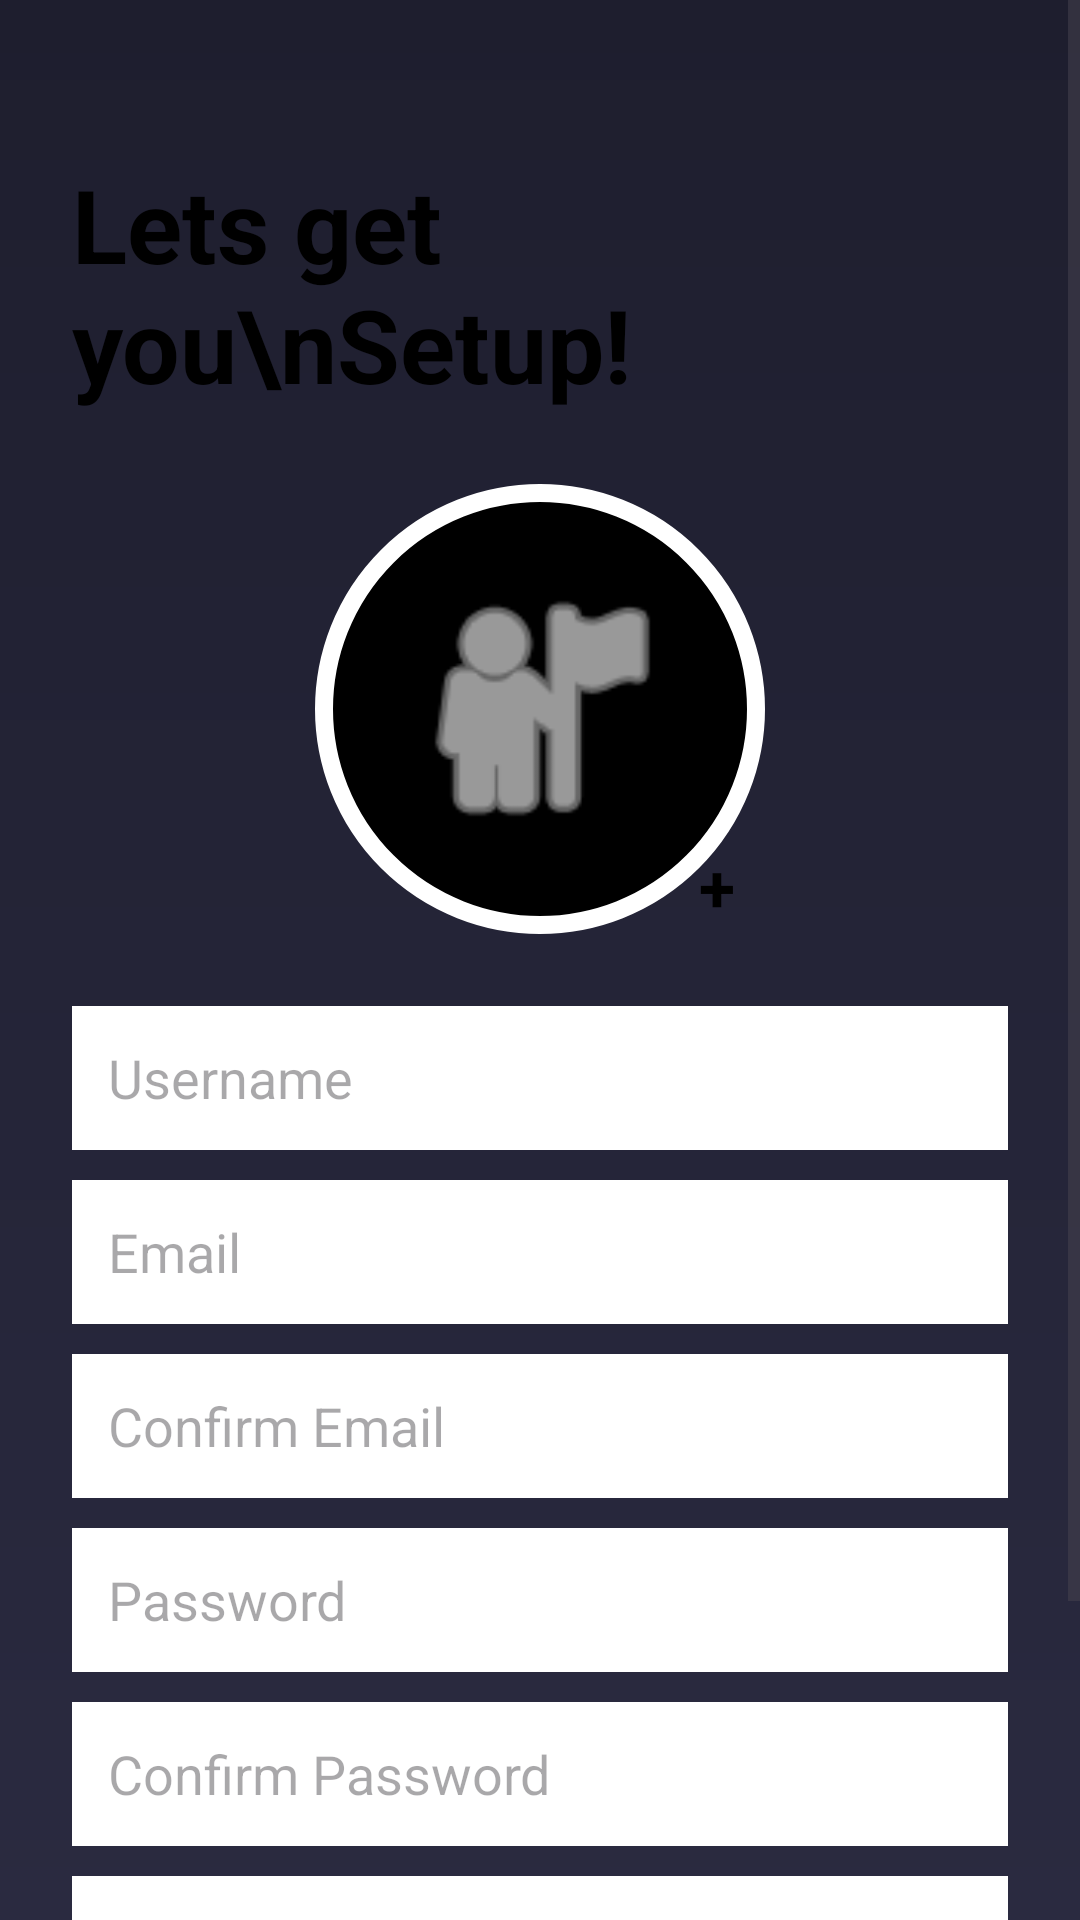

Screen size 1080px×1920px. Icon name, then its box in pixels as (x1, y1, x2, y2):
Profile icon: (435, 602, 650, 815)
